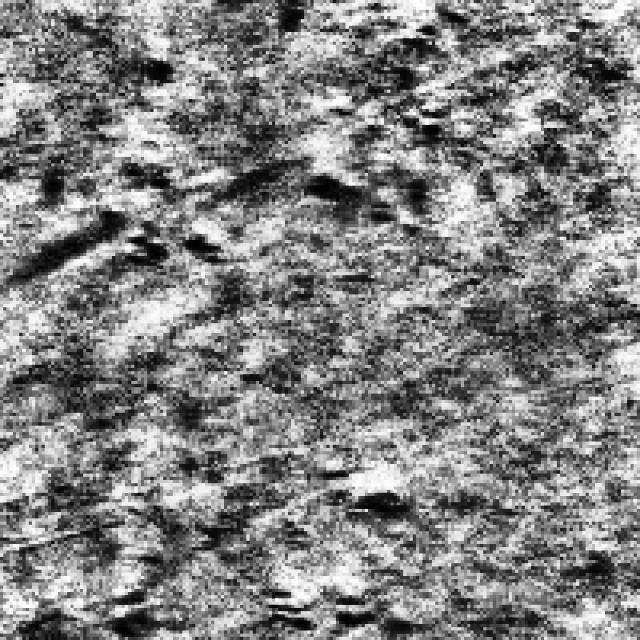Crazing: (19, 108, 438, 282), (83, 480, 403, 630)
